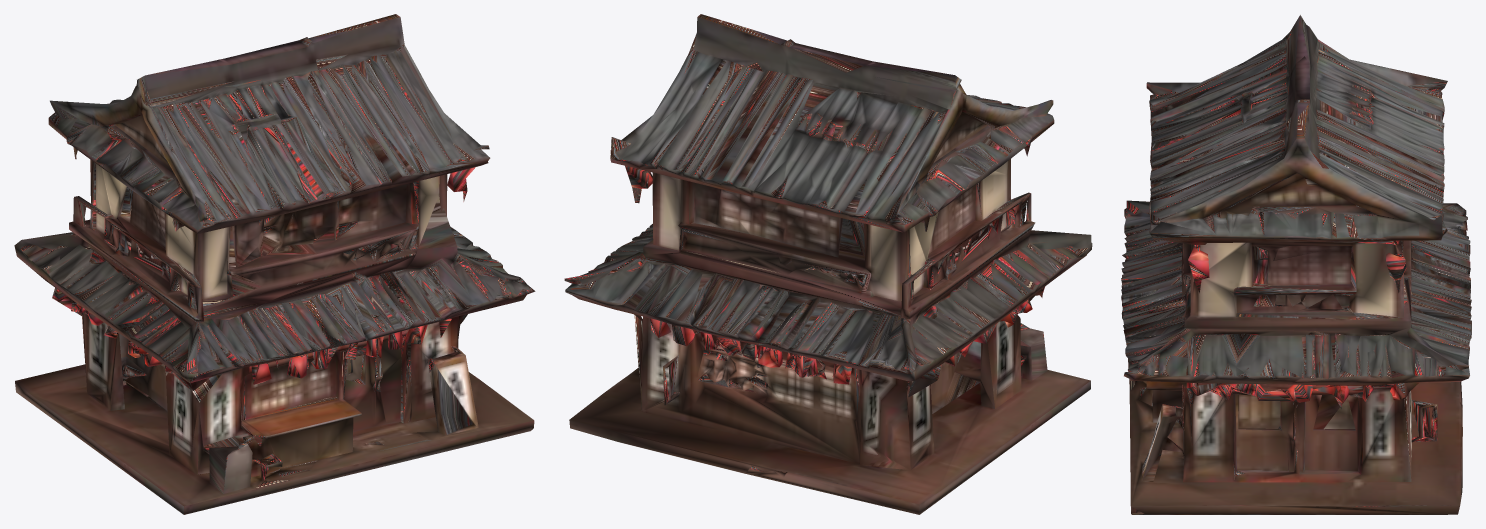
File: bq_shop_lantern.lod1.glb
3 views of the same model, side by side, from view 1: azimuth 30°, elevation 25°; view 2: azimuth 150°, elevation 25°; view 3: azimuth 270°, elevation 25° (orthographic). The views are drawn at different scales.
Size of the model in its own units: 1.99 by 1.98 by 1.76.
1 material, 1 textured.
